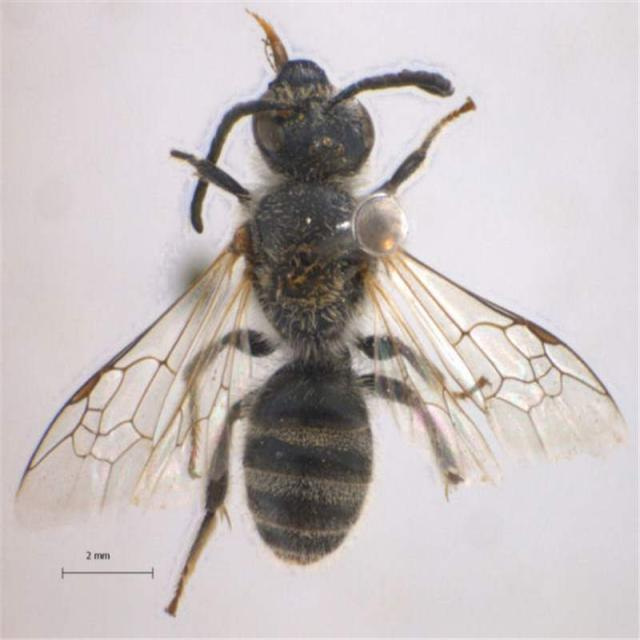Lasioglossum: (98, 9, 544, 588)
